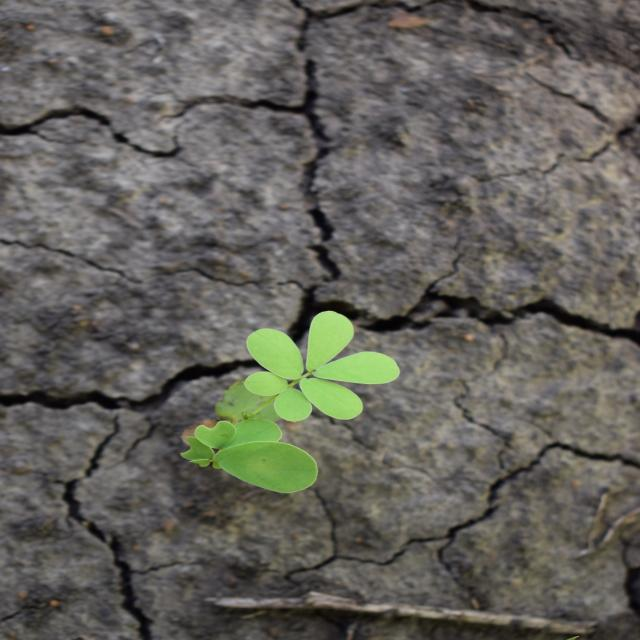Sicklepod: (176, 308, 404, 494)
